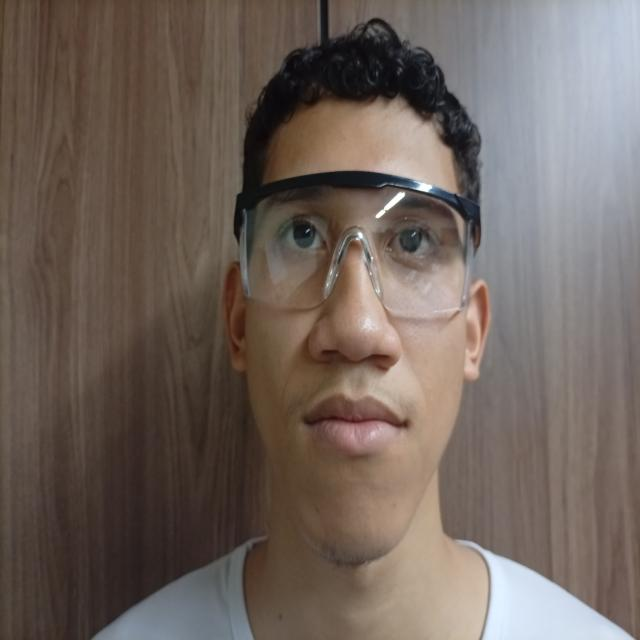oculos-epi: (234, 171, 481, 319)
